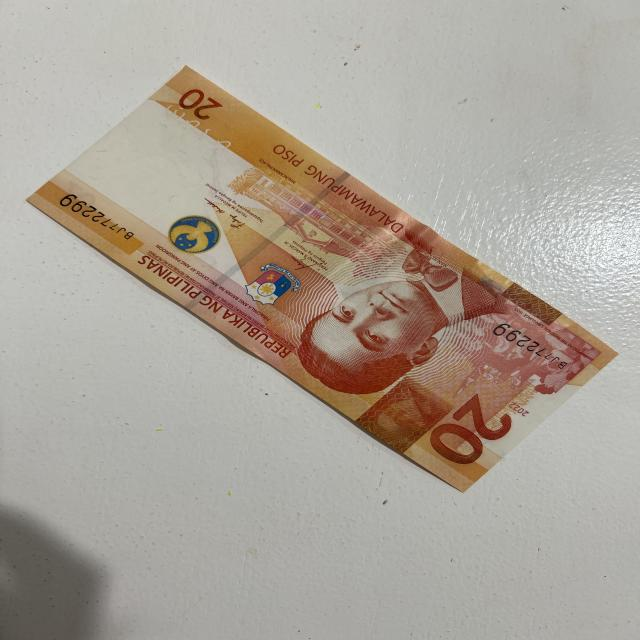concealed_value: (356, 376, 452, 453)
security_thread: (179, 167, 356, 318)
see_through_mark: (153, 97, 246, 160)
serial_number: (49, 183, 149, 247), (476, 314, 578, 375)
value: (424, 387, 525, 471)
watermark: (70, 106, 244, 229)
